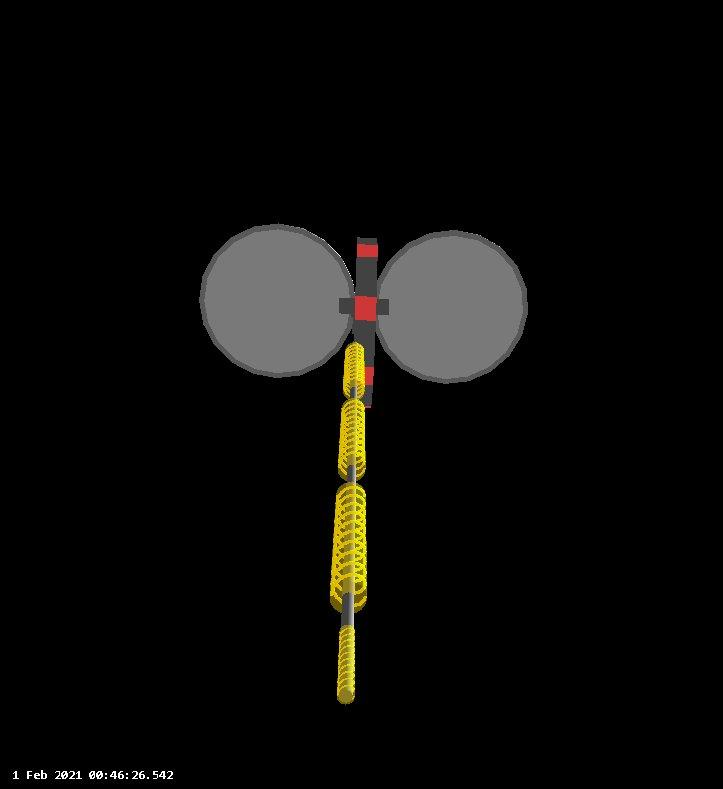antenna: (377, 219, 532, 387), (199, 219, 357, 381), (327, 338, 370, 711)
body: (350, 233, 382, 408)
